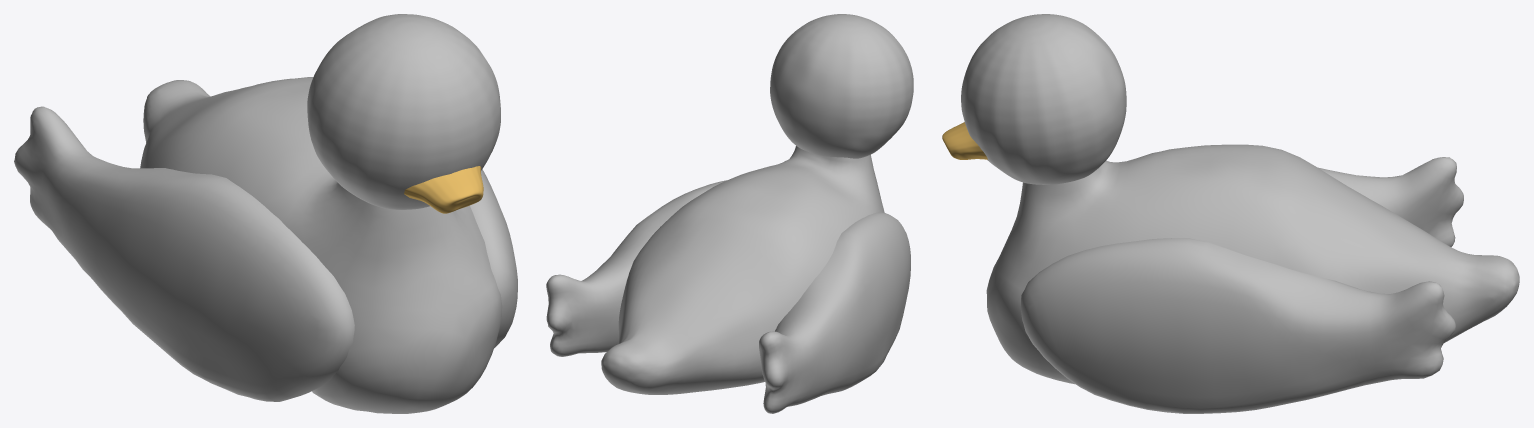
File: duck.glb
3 renders of one model, left to right at view 1: azimuth 30°, elevation 25°; view 2: azimuth 150°, elevation 25°; view 3: azimuth 270°, elevation 25°, orthographic. The views are drawn at different scales.
Parts seen in each view (by area): view 1: pSphere6, pCone1; view 2: pSphere6; view 3: pSphere6, pCone1.
Part boxes in pixels (box(x1,y1,x2,y2)): pSphere6: box(14, 14, 517, 413); pCone1: box(404, 166, 483, 213); pSphere6: box(546, 14, 913, 413); pSphere6: box(961, 14, 1519, 413); pCone1: box(942, 122, 987, 159).
Bounding box in the file's own units: 0.0121 × 0.0138 × 0.0207.
